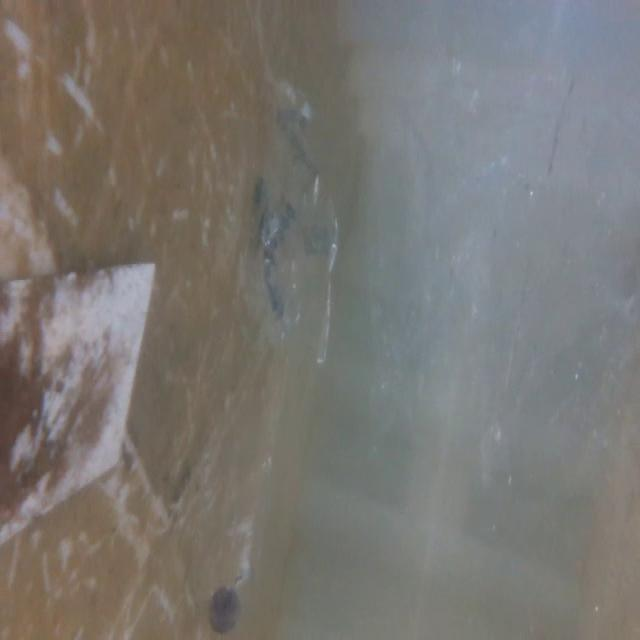metal: (0, 256, 161, 535)
plastic bags: (390, 19, 640, 509), (247, 70, 352, 376)
plastic bottle: (186, 426, 275, 628)
